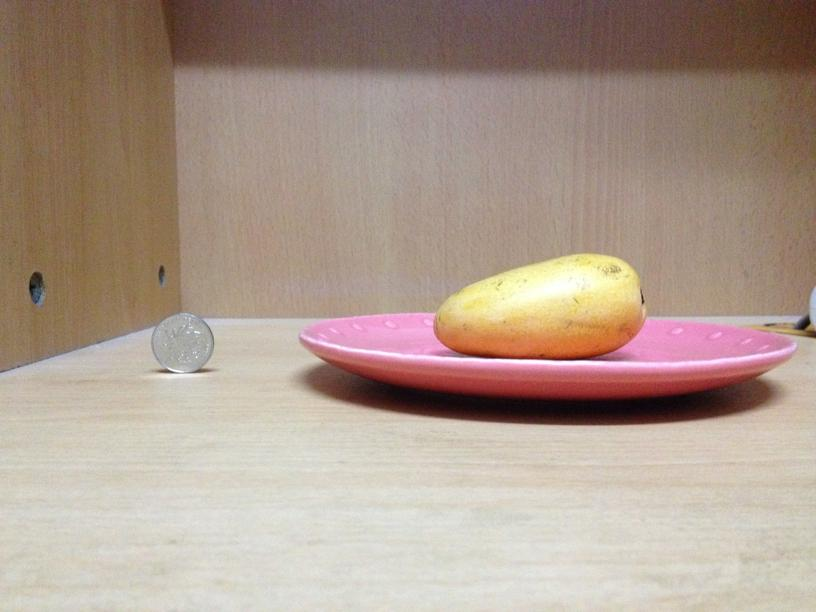coin: (149, 310, 214, 374)
mango: (434, 253, 646, 358)
